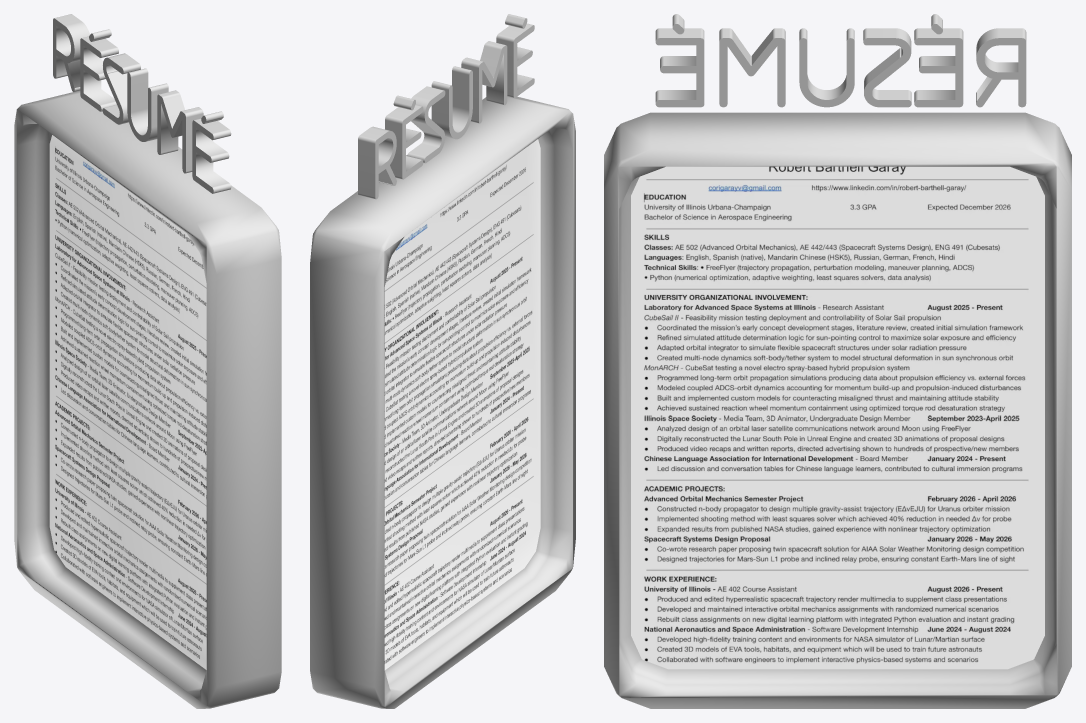
The model's file is Resume.glb.
3 renders of one model, left to right at view 1: azimuth 30°, elevation 25°; view 2: azimuth 150°, elevation 25°; view 3: azimuth 270°, elevation 25°, orthographic. The views are drawn at different scales.
Parts seen in each view (by area): view 1: summerheat.001, Text; view 2: summerheat.001, Text; view 3: summerheat.001, Text.
Boxes of the visible parts, x1,y1,x2,y2 form: summerheat.001: (14,90,281,708); Text: (53,14,231,193); summerheat.001: (310,96,575,708); Text: (358,14,534,199); summerheat.001: (604,112,1071,708); Text: (655,14,1026,107).
Bounding box in the file's own units: 0.3083 × 2.37 × 1.5.
2 materials, 1 textured.
